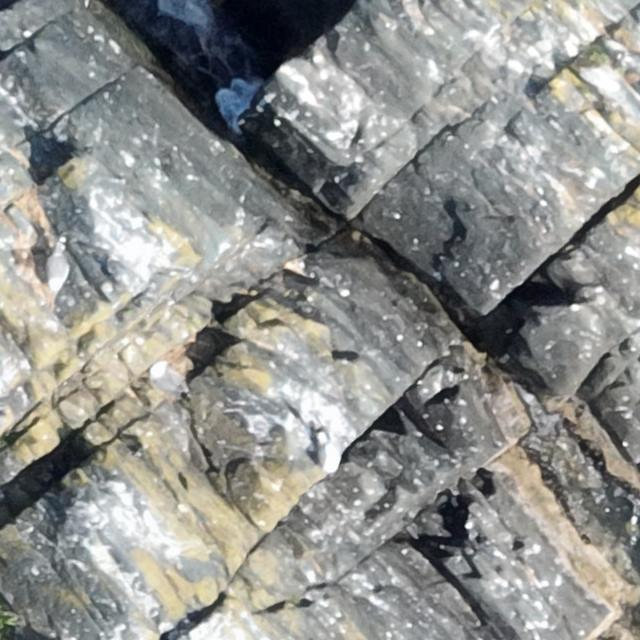umineko: (154, 362, 188, 400), (46, 242, 68, 290), (316, 428, 338, 474)
